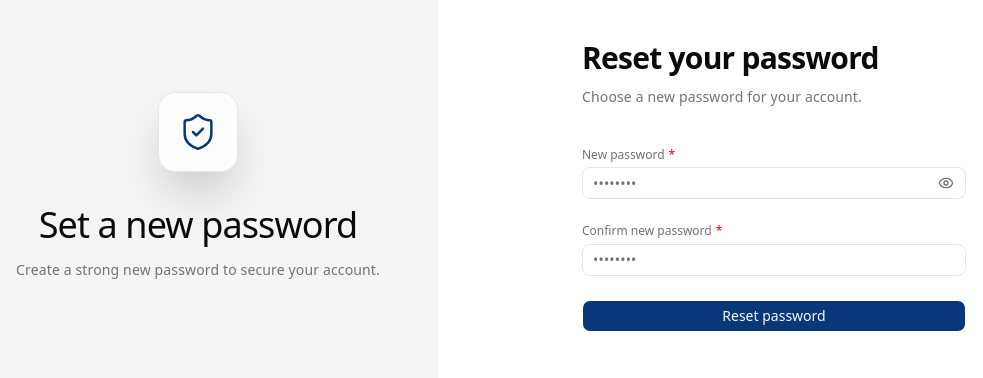
it: ResetPasswordPage (S2) — integration (VT) › shows a banner for an invalid token (422 mapBackendErrors)
Type "Password123" into the password field with id "reset-password" at (774, 183), box [582, 167, 966, 199]
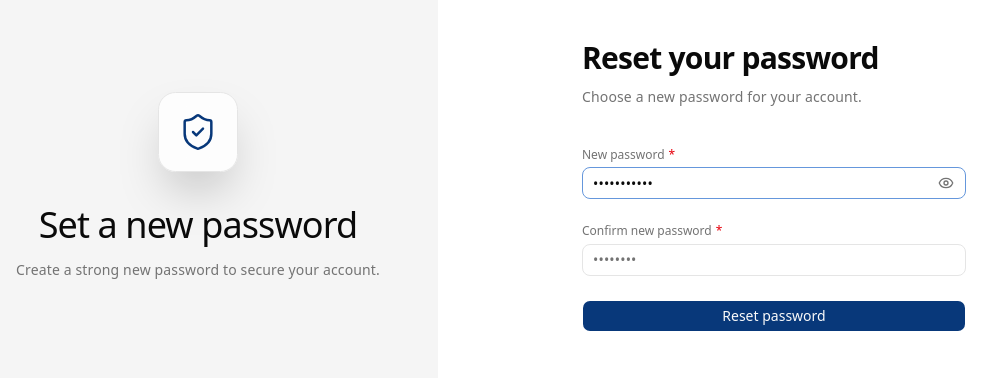
Type "Password123" into the password field with id "reset-password-confirmation" at (774, 260), box [582, 244, 966, 276]
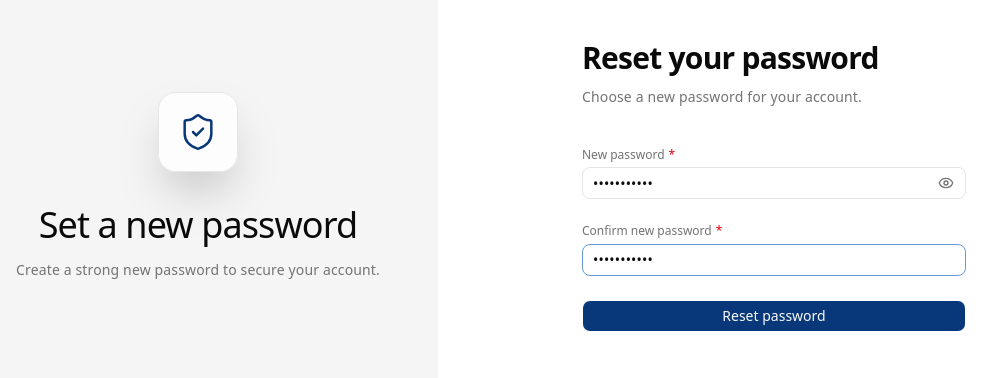
Click the button "Reset password" at (774, 316), box [582, 300, 966, 332]
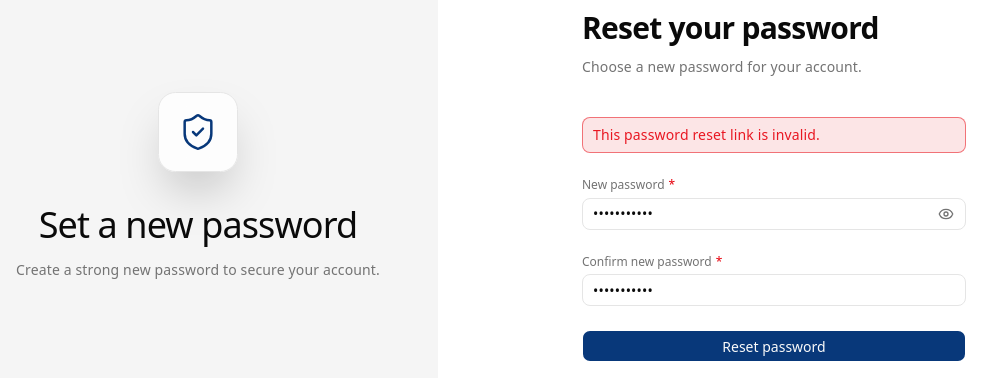
Check: the message with test id "reset-token-error" shows "invalid", box [593, 124, 820, 144]
